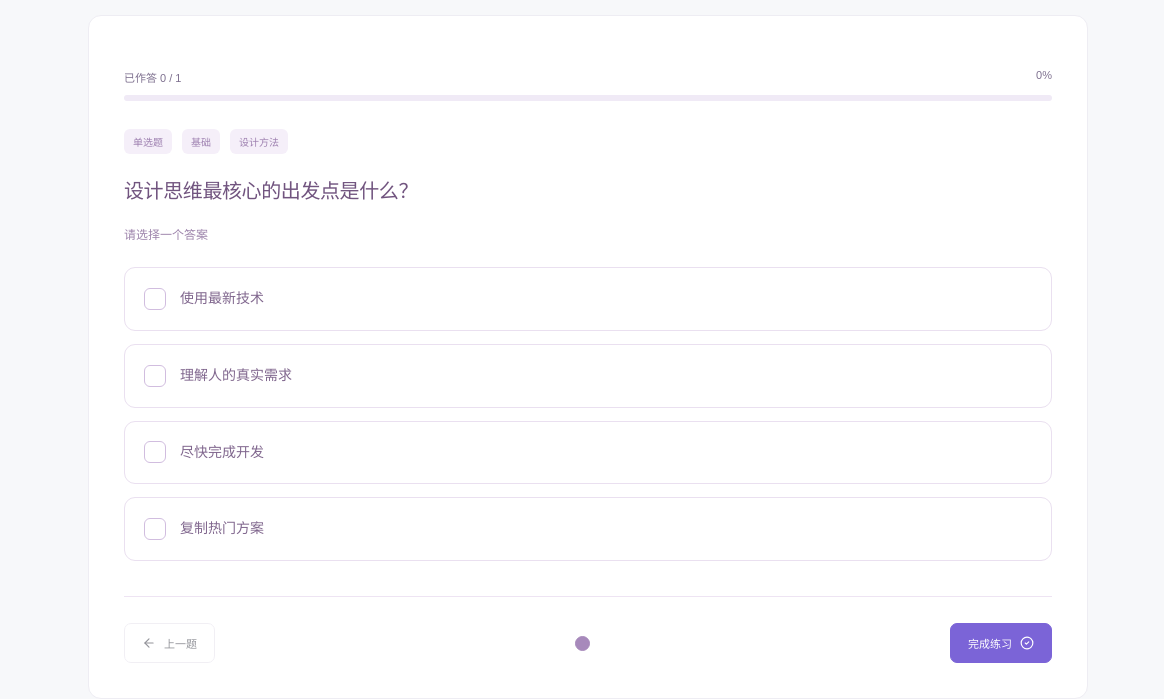
Test: scores unanswered work as zero and places it in the review queue
(page scrolled)
Click the button "完成练习": coordinates (1001, 643) [950,623,1052,663]
(page scrolled)
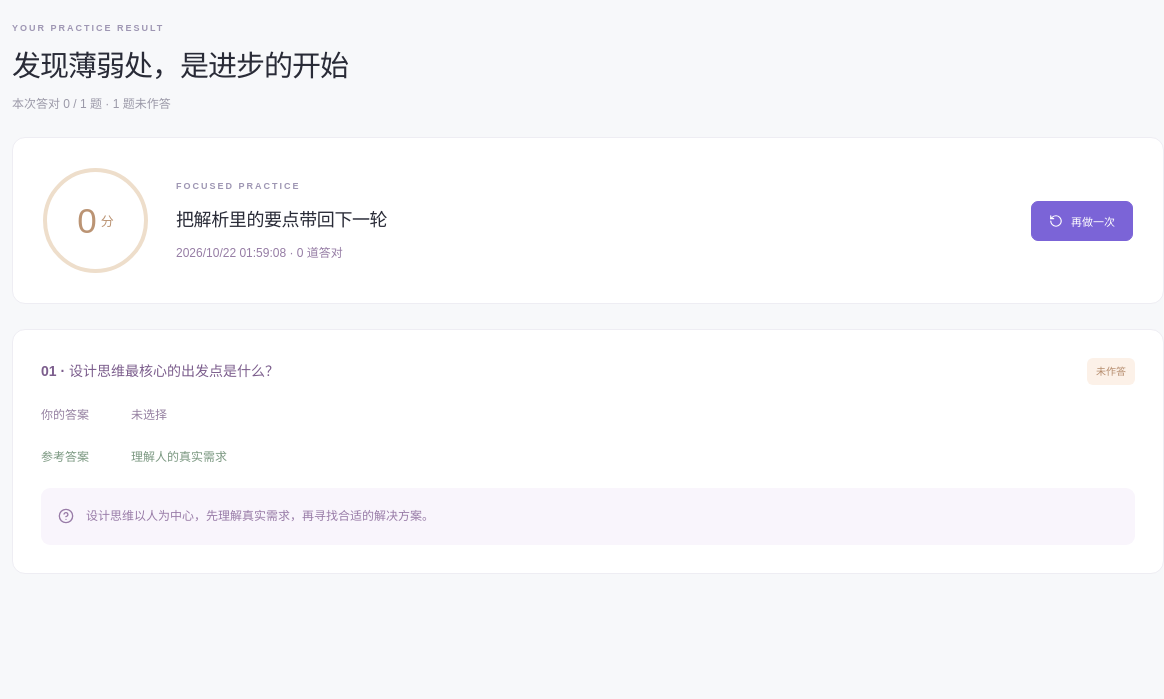
Check: the text "本次答对 0 / 1 题 · 1 题未作答" is shown, box [12,97,171,111]
